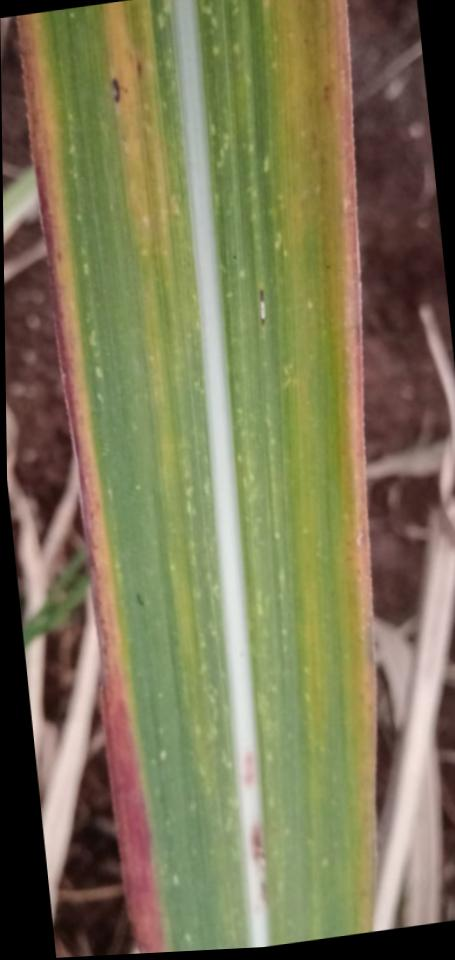RedRot: (248, 822, 264, 866), (241, 751, 256, 788)
Rust: (255, 287, 267, 327), (107, 76, 121, 106)
Yellow: (12, 16, 164, 953), (311, 0, 376, 741), (102, 0, 173, 258)
